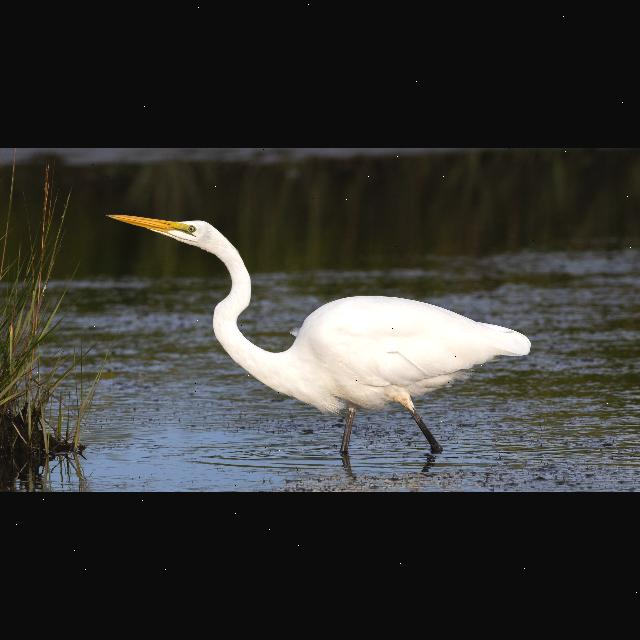egret: (100, 204, 532, 468)
